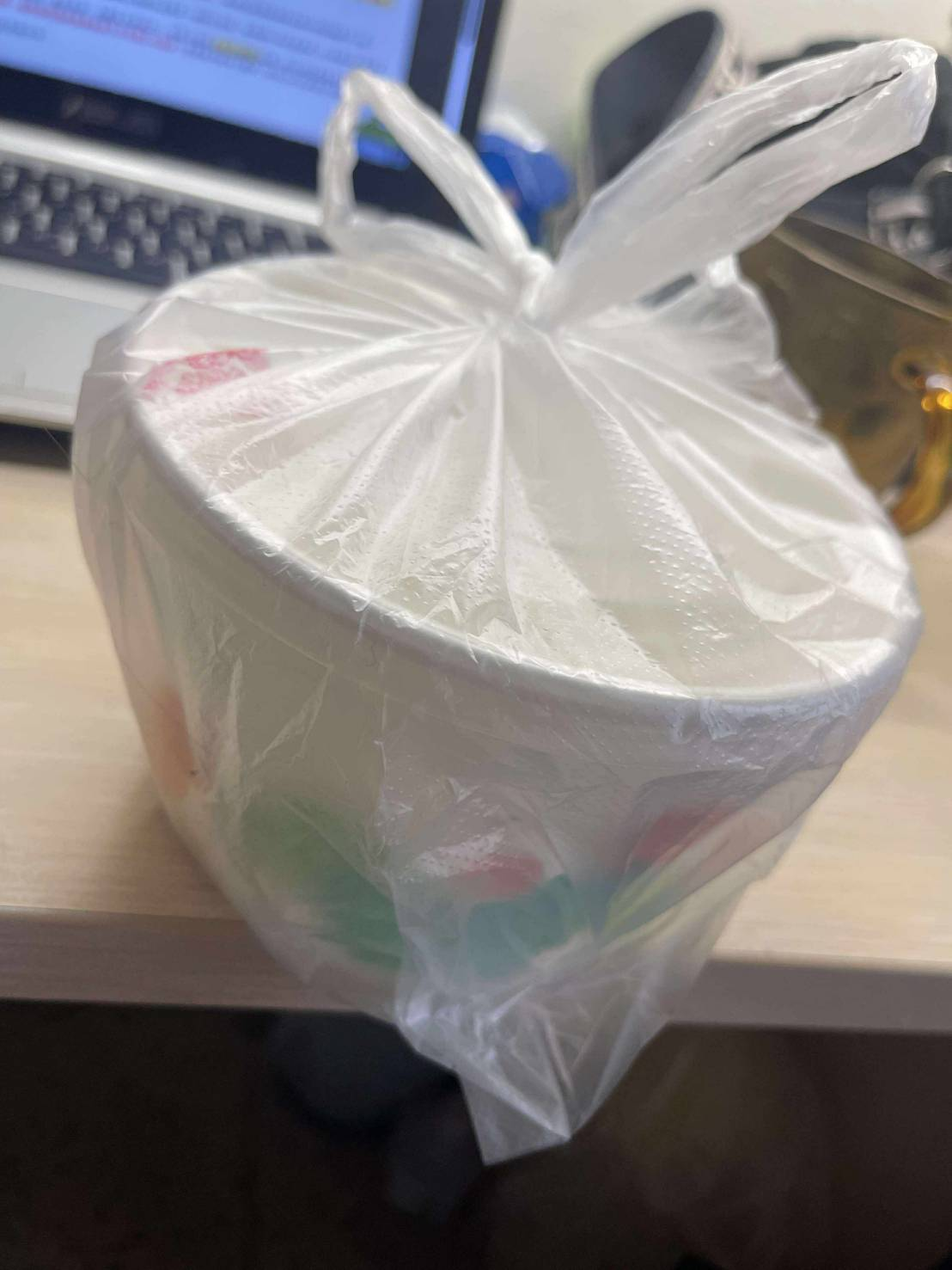General waste: (37, 29, 952, 1095)
